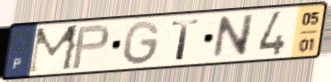4: (256, 9, 289, 59)
G: (122, 19, 163, 67)
M: (25, 23, 83, 76)
N: (210, 12, 257, 61)
P: (69, 22, 112, 71)
T: (170, 17, 202, 62)
